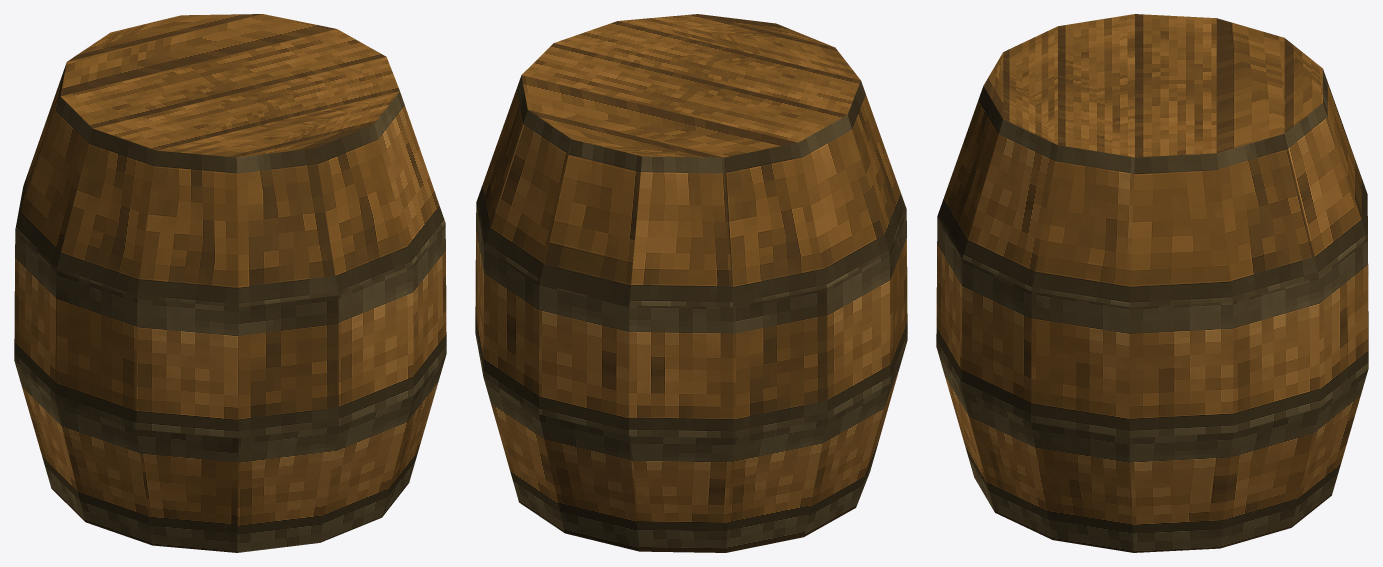
The model's file is Barrel.fbx.
3 views of the same model, side by side, from view 1: azimuth 30°, elevation 25°; view 2: azimuth 150°, elevation 25°; view 3: azimuth 270°, elevation 25° (orthographic).
Parts seen in each view (by area): view 1: Cylinder; view 2: Cylinder; view 3: Cylinder.
Boxes of the visible parts, x1=… form: Cylinder: x1=14, y1=14, x2=446, y2=552; Cylinder: x1=475, y1=14, x2=907, y2=552; Cylinder: x1=936, y1=14, x2=1368, y2=552.
Bounding box in the file's own units: 50 × 50 × 50.
Materials: 1 (1 with a texture image).
